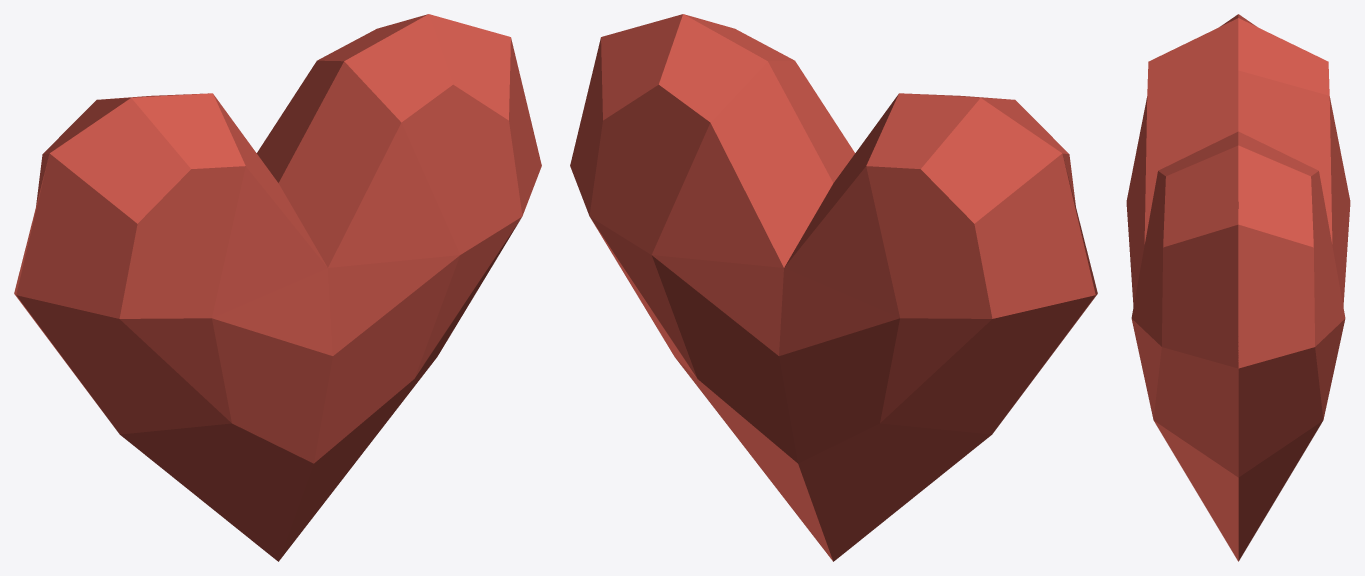
File: heart.fbx
3 renders of one model, left to right at view 1: azimuth 30°, elevation 25°; view 2: azimuth 150°, elevation 25°; view 3: azimuth 270°, elevation 25°, orthographic. The views are drawn at different scales.
Parts seen in each view (by area): view 1: Plane; view 2: Plane; view 3: Plane.
Boxes of the visible parts, x1,y1,x2,y2 form: Plane: (14,14,541,561); Plane: (570,14,1097,561); Plane: (1126,14,1350,561).
Size of the model in its own units: 2.94 by 2.72 by 1.14.
